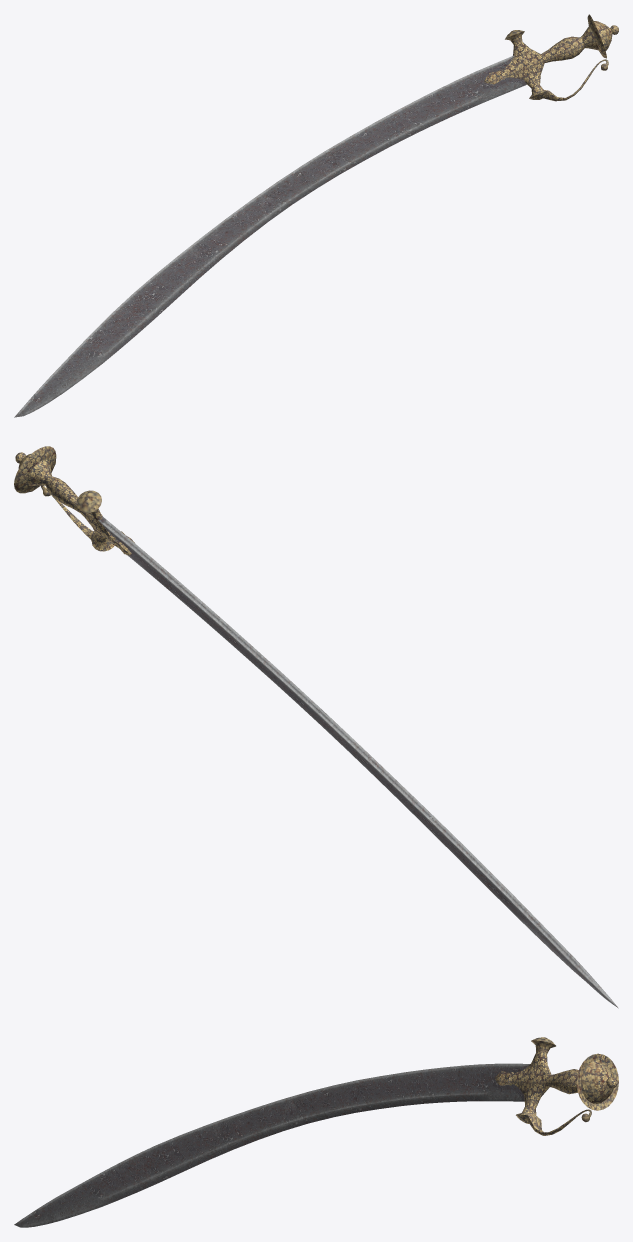
Rendered from sousan_pata_sword_gameready_asset.glb.
3 renders of one model, top to bottom at view 1: azimuth 30°, elevation 25°; view 2: azimuth 150°, elevation 25°; view 3: azimuth 330°, elevation 25°, orthographic. The views are drawn at different scales.
Visible parts, largest first — view 1: Plane, Cube.001; view 2: Plane, Cube.001; view 3: Plane, Cube.001.
Boxes of the visible parts, x1=… form: Plane: x1=14, y1=55, x2=526, y2=417; Cube.001: x1=484, y1=14, x2=618, y2=101; Plane: x1=98, y1=516, x2=618, y2=1008; Cube.001: x1=14, y1=446, x2=134, y2=555; Plane: x1=14, y1=1063, x2=529, y2=1227; Cube.001: x1=495, y1=1037, x2=618, y2=1135.
Size of the model in its own units: 431 by 227 by 82.31.
Materials: 1 (1 with a texture image).
